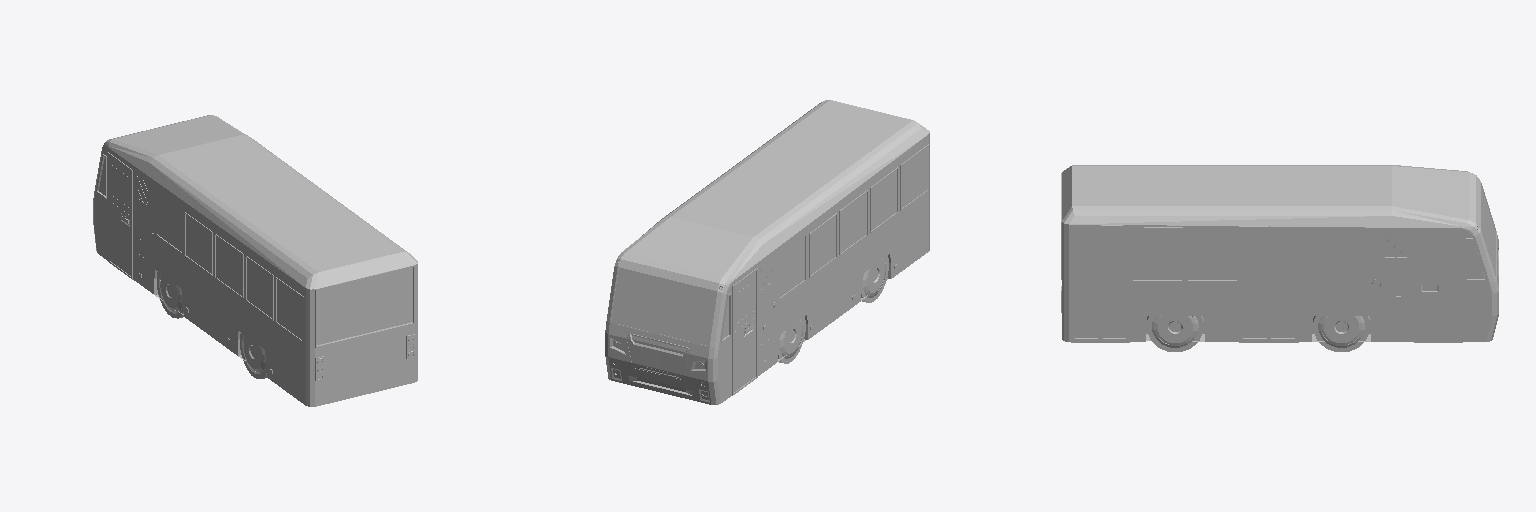
The picture shows the model from 3 angles: view 1: azimuth 30°, elevation 25°; view 2: azimuth 150°, elevation 25°; view 3: azimuth 270°, elevation 25°; orthographic projection.
Parts seen in each view (by area): view 1: airport_bus_01, Cylinder.002, Cylinder; view 2: airport_bus_01, Cylinder.002, Cylinder; view 3: airport_bus_01, Cylinder.003, Cylinder.001.
Boxes of the visible parts, x1=… form: airport_bus_01: x1=93, y1=115, x2=417, y2=406; Cylinder.002: x1=240, y1=333, x2=266, y2=378; Cylinder: x1=157, y1=272, x2=183, y2=318; airport_bus_01: x1=605, y1=100, x2=929, y2=404; Cylinder.002: x1=861, y1=256, x2=888, y2=302; Cylinder: x1=778, y1=316, x2=805, y2=363; airport_bus_01: x1=1061, y1=165, x2=1498, y2=342; Cylinder.003: x1=1147, y1=316, x2=1203, y2=351; Cylinder.001: x1=1313, y1=316, x2=1369, y2=351.
Bounding box in the file's own units: 0.3673 × 0.4321 × 1.23.